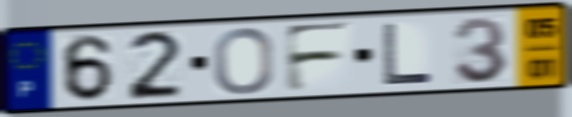2: (124, 28, 188, 103)
3: (449, 13, 511, 86)
6: (59, 32, 118, 104)
F: (281, 20, 354, 95)
L: (380, 21, 436, 87)
O: (211, 25, 276, 97)
